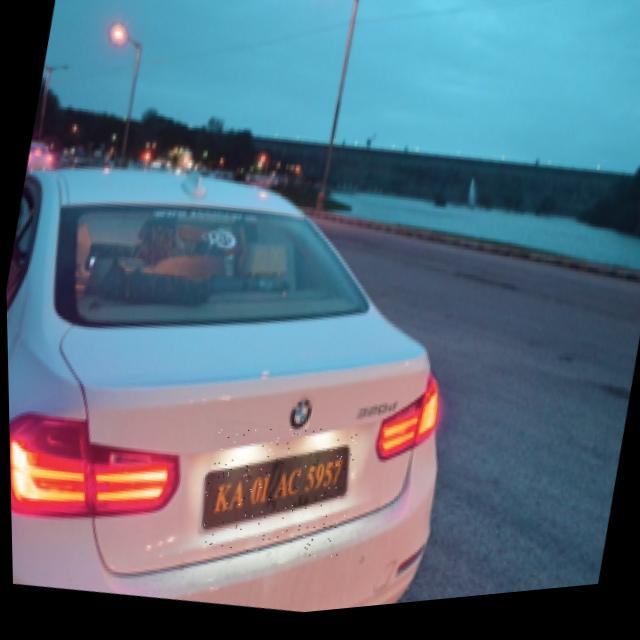license_plate: (190, 412, 361, 579)
